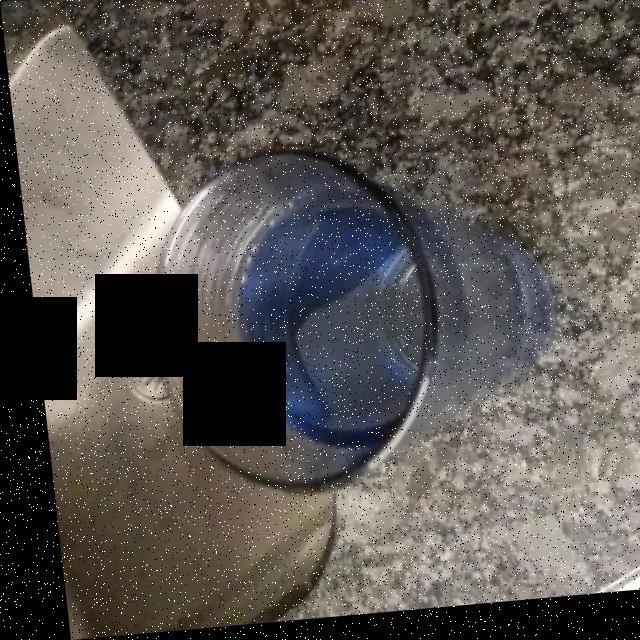water: (205, 212, 544, 462)
